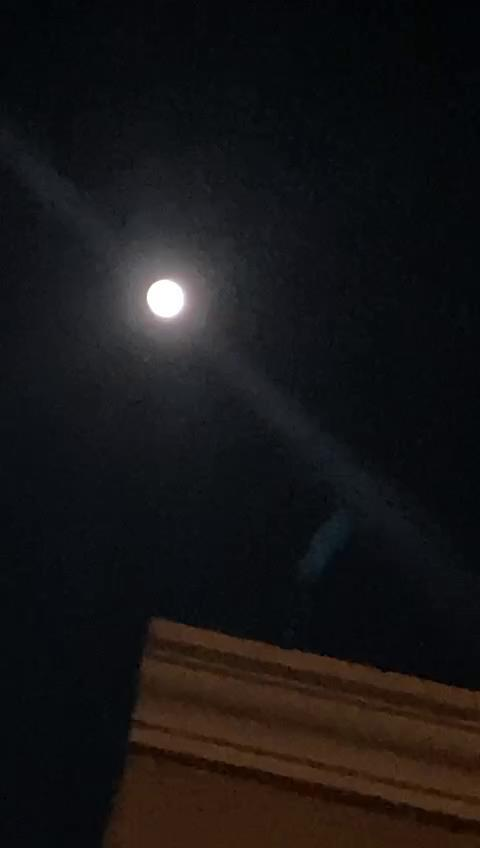moon: (138, 256, 206, 324)
